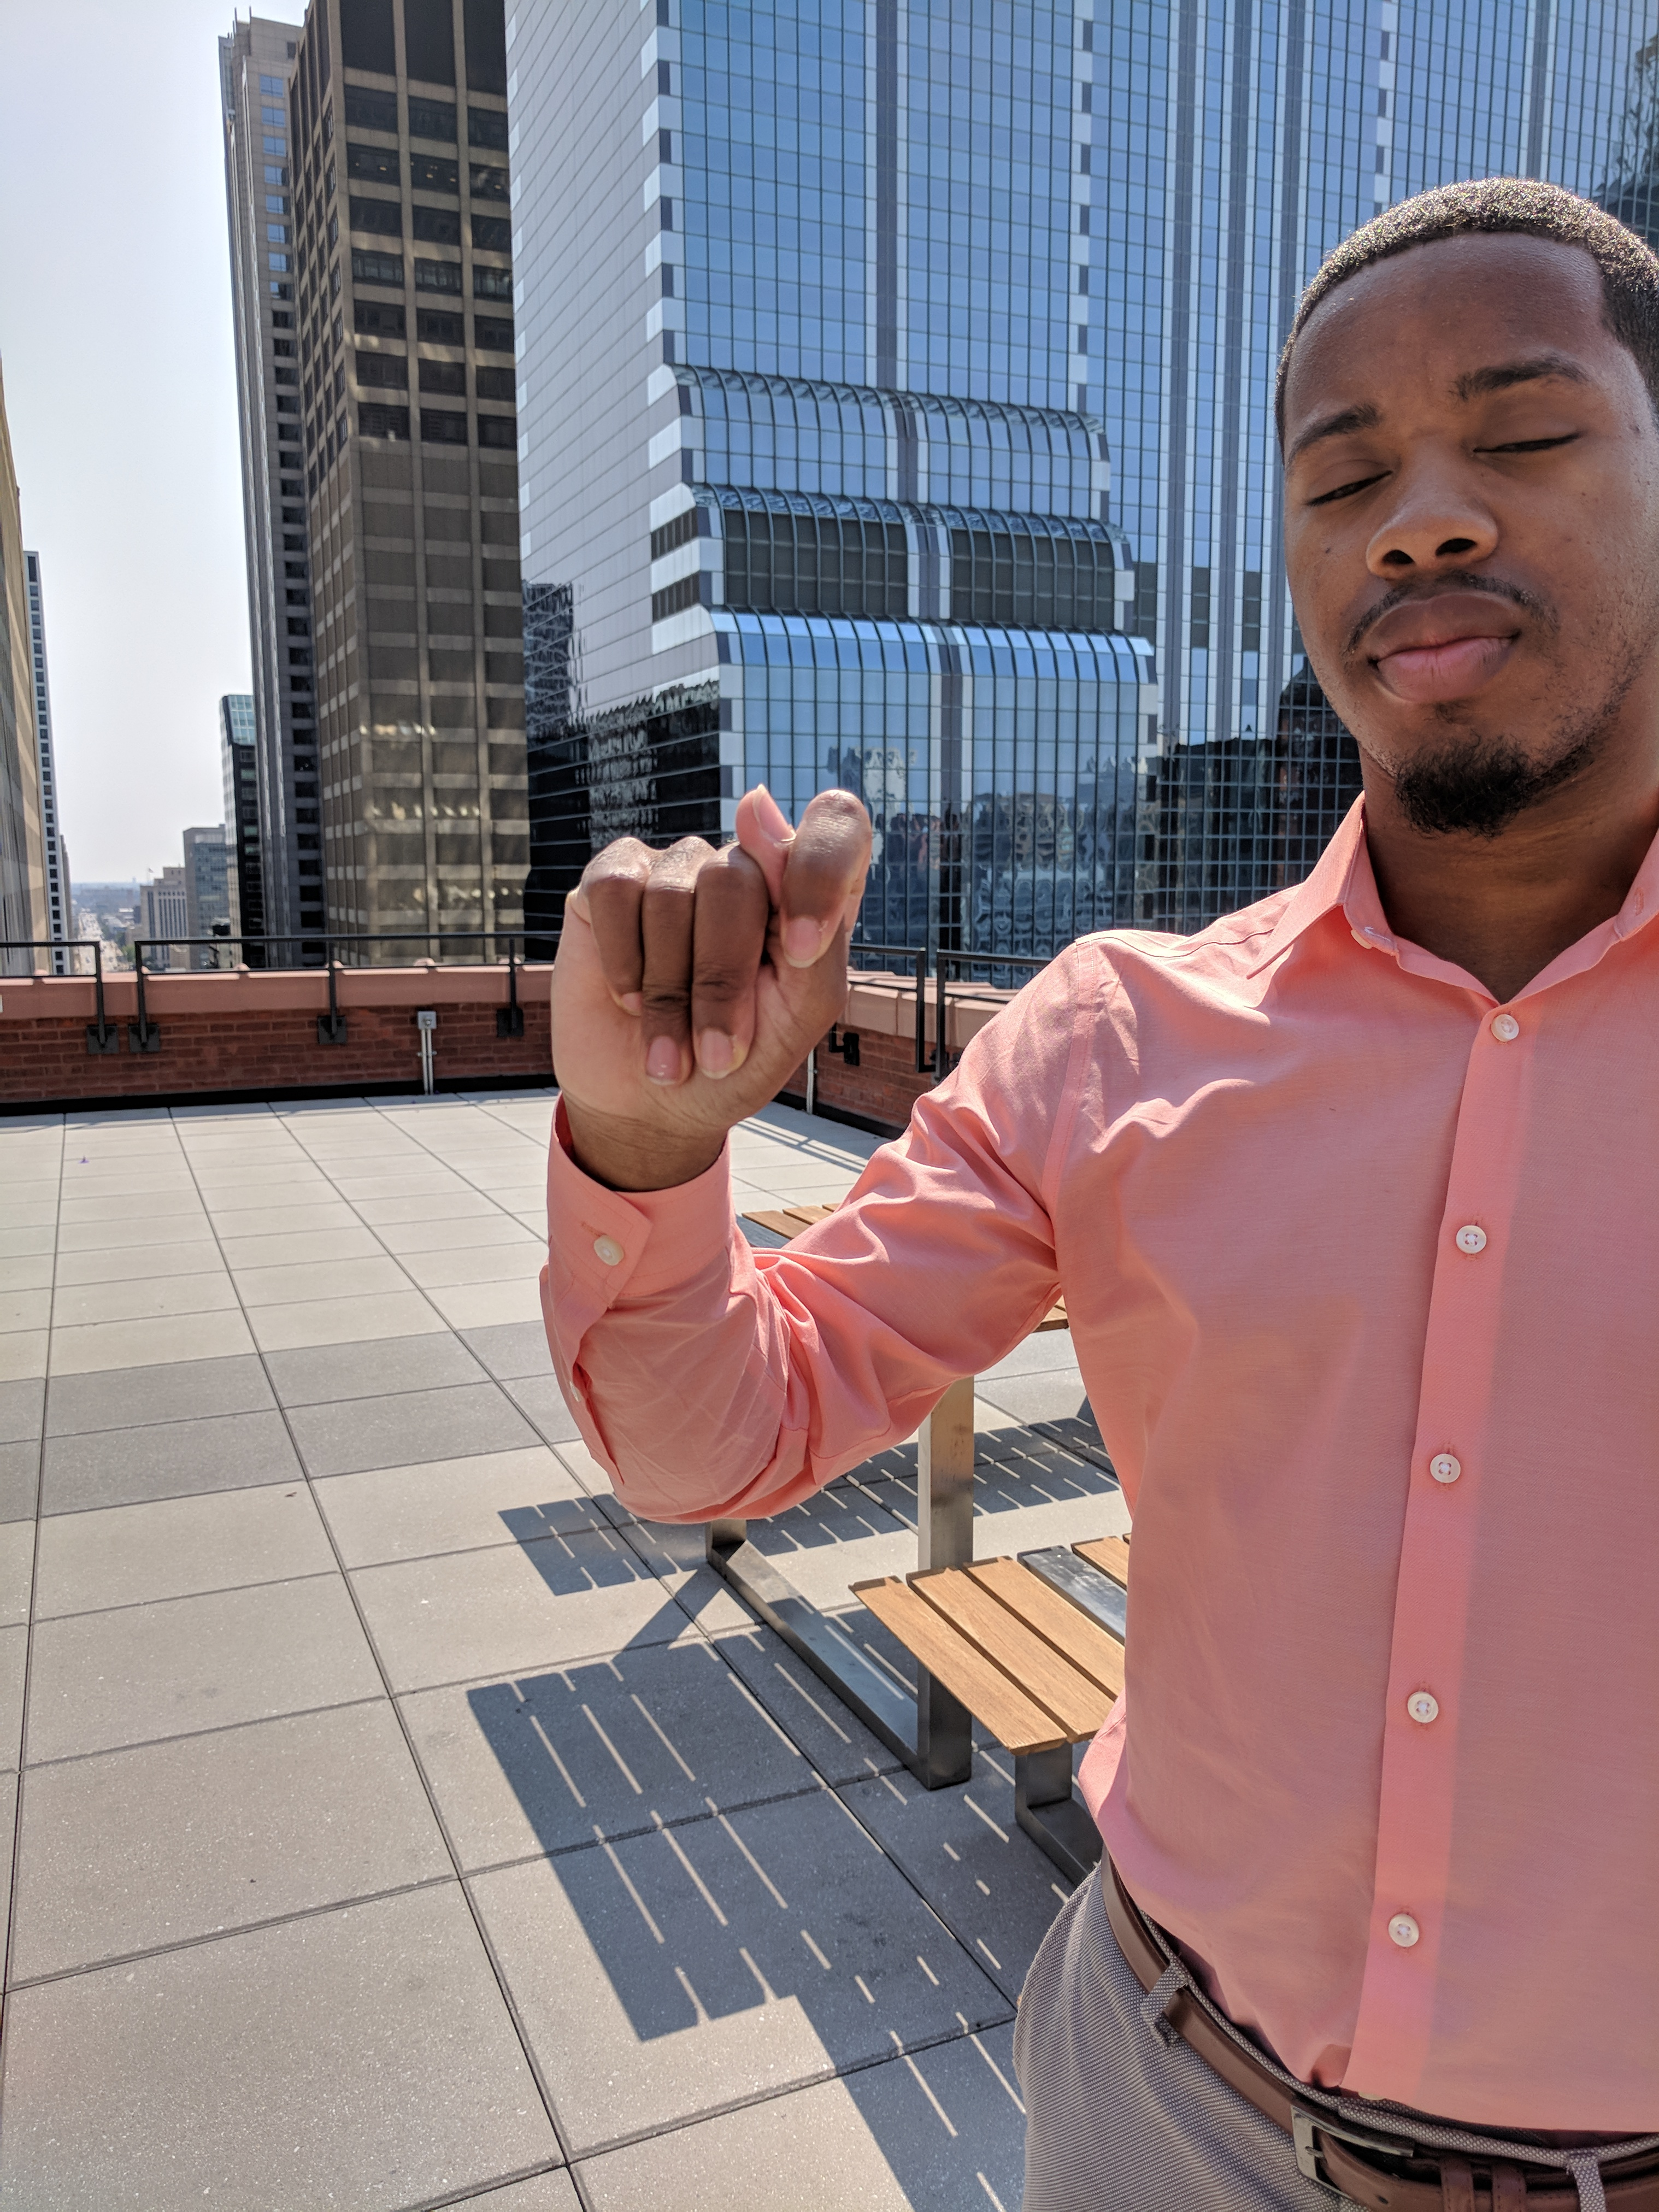t: (547, 773, 882, 1144)
